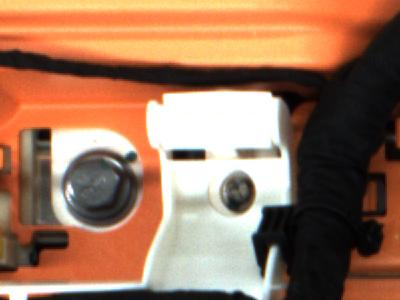nut_b: (56, 146, 143, 230)
